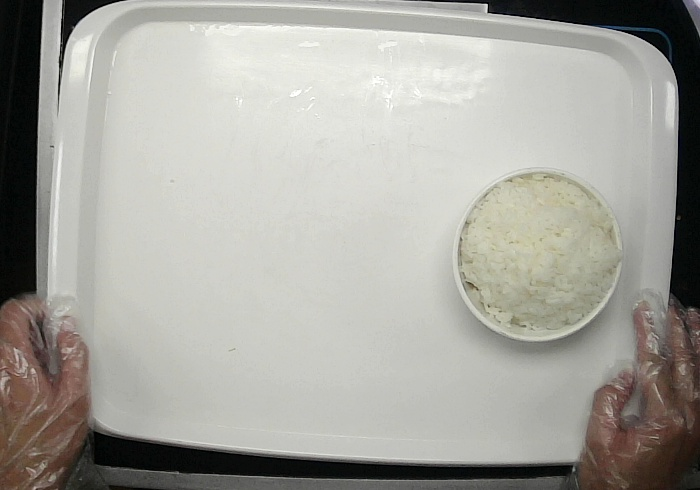HZYJPL-Fan_Wan: (453, 167, 623, 343)
